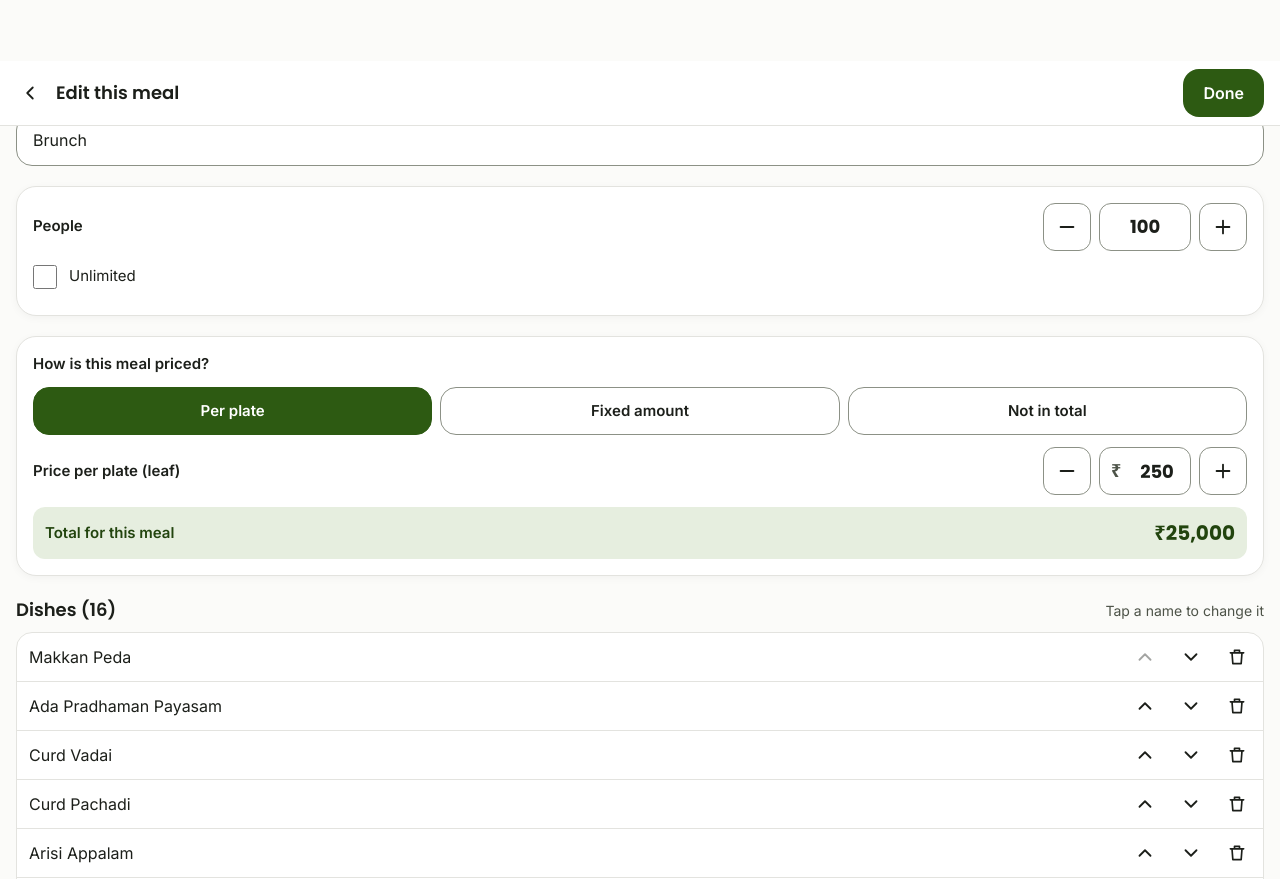
Scenario: Meal editor › +/- on people and price update the total (Brunch 120 x 260 = ₹31,200)
This screenshot has width=1280, height=879.
Expected: the text with test id "session-total" reads "₹25,000", [1154,519,1235,547]
Click the button named "More People" at {"x": 1223, "y": 226}, box [1199,202,1247,250]
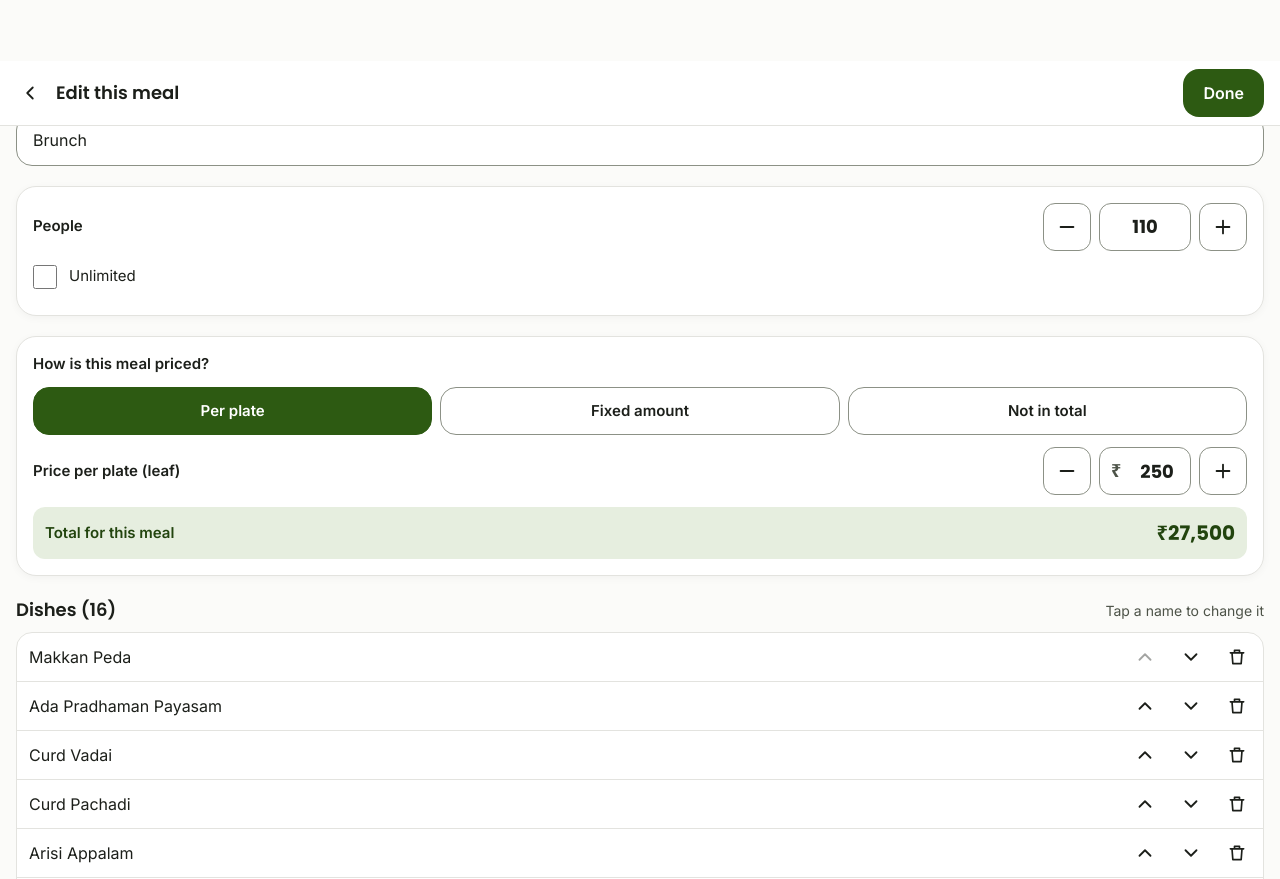
Click the button named "More People" at {"x": 1223, "y": 226}, box [1199,202,1247,250]
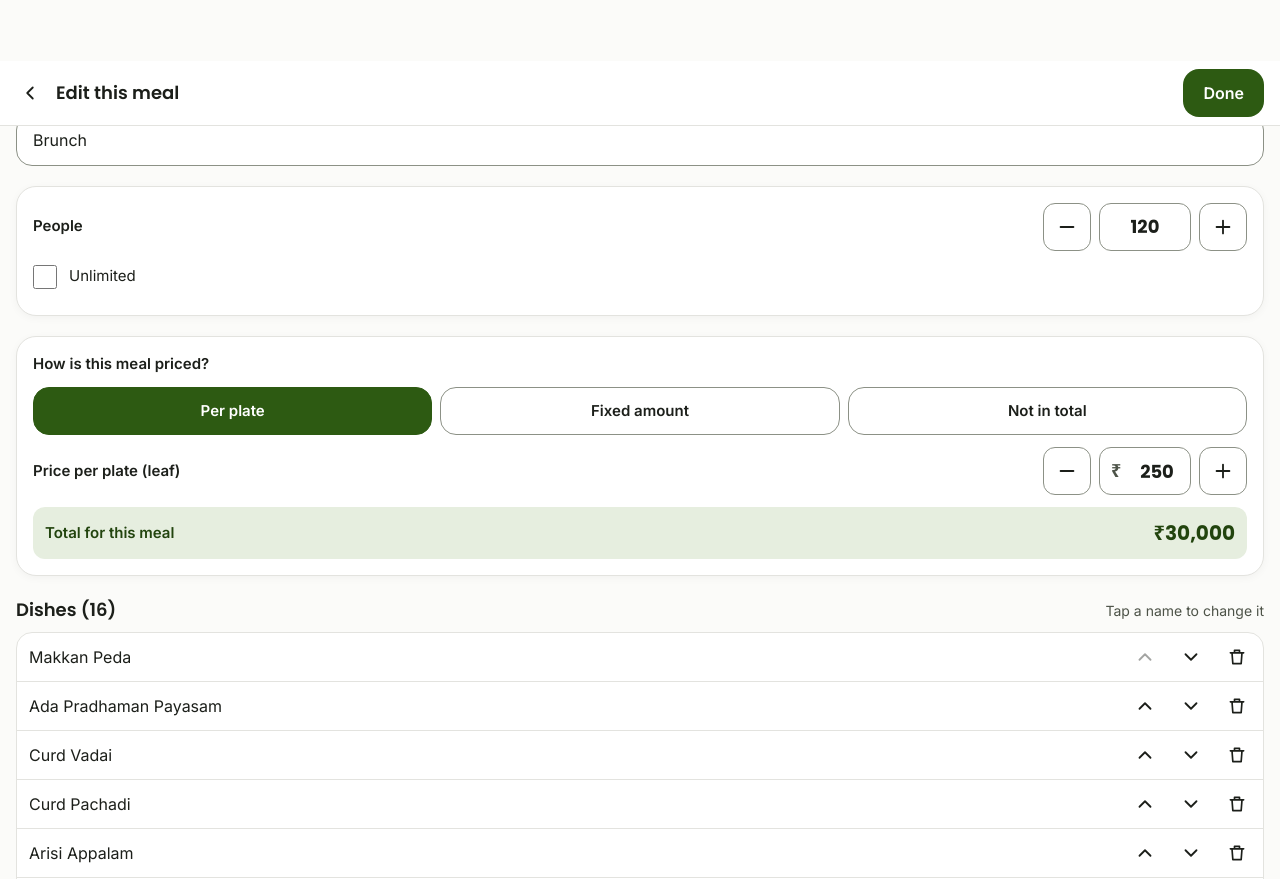
Click the button named "More Price per plate (leaf)" at {"x": 1223, "y": 471}, box [1199,447,1247,495]
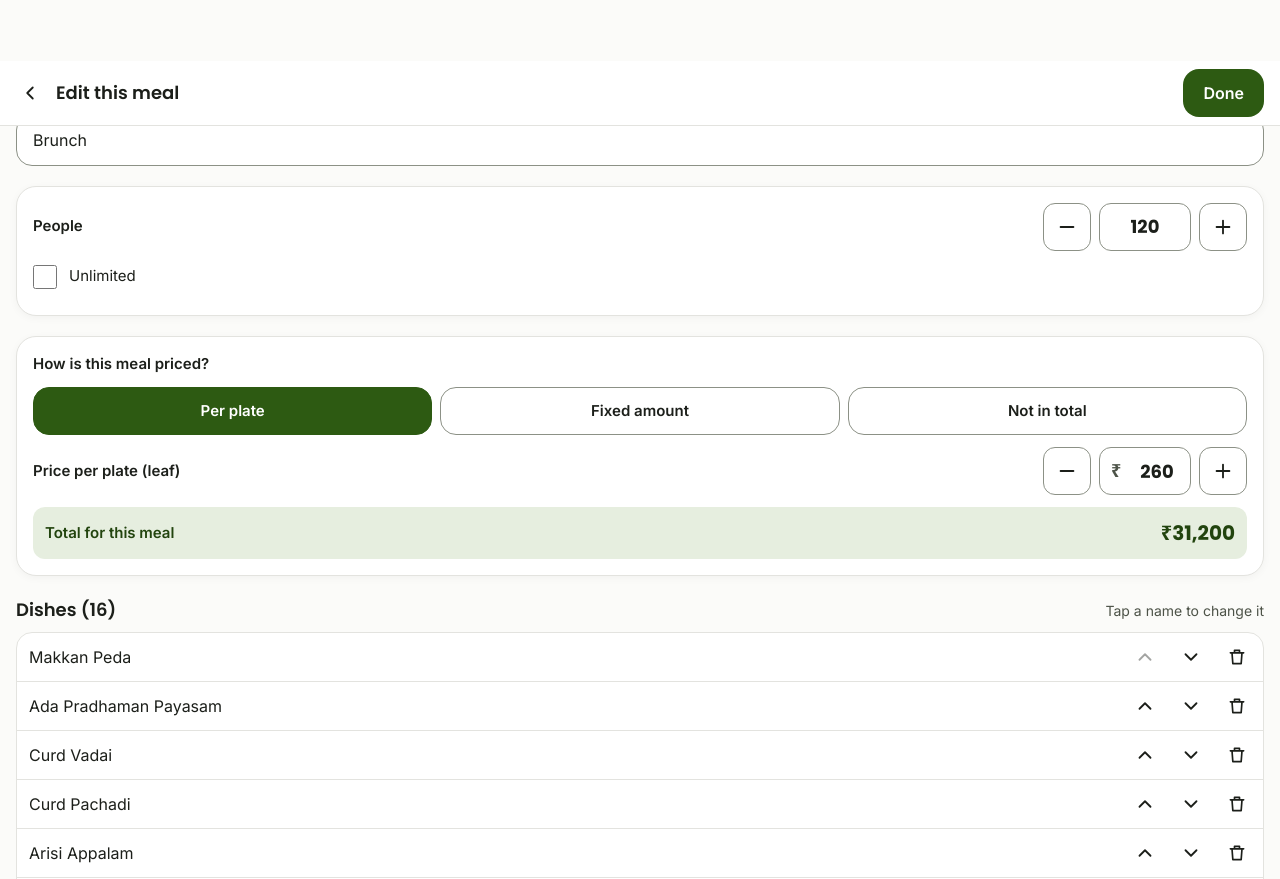
Expected: the text with test id "session-total" reads "₹31,200", [1161,519,1235,547]
